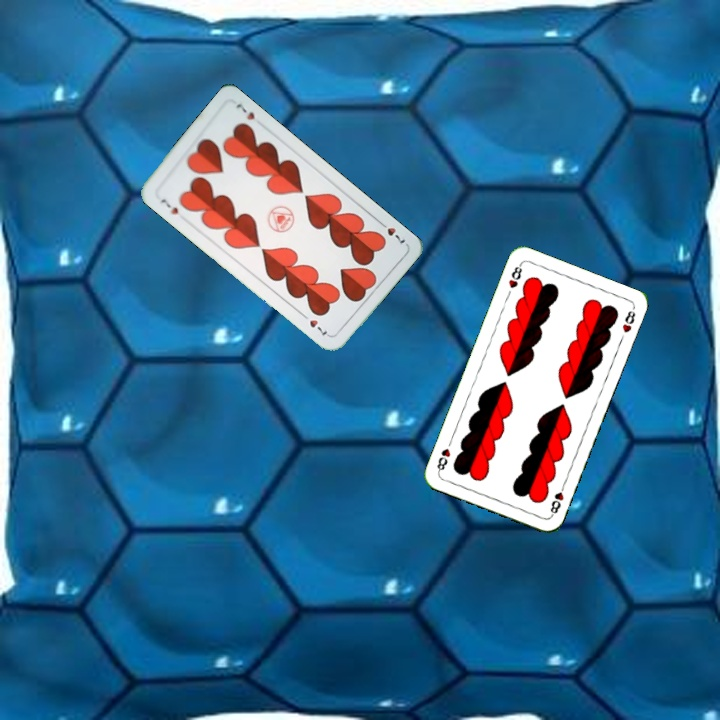H7: (375, 217, 408, 246), (157, 195, 181, 218)
H8: (546, 479, 568, 519), (504, 260, 525, 291)
